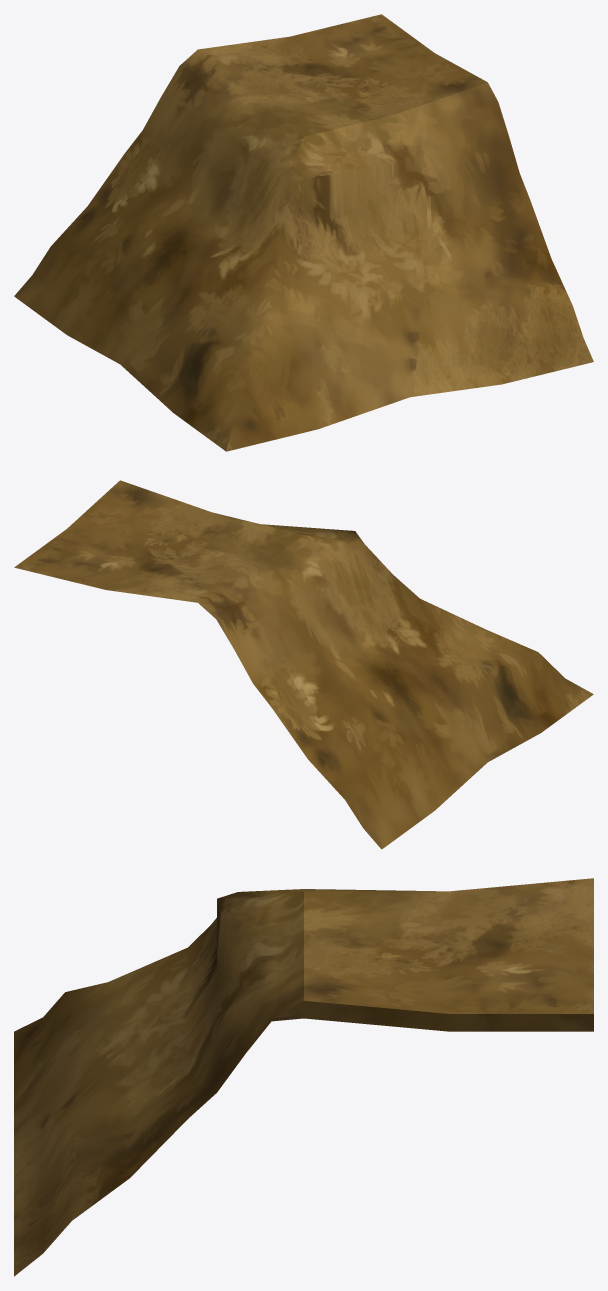
Rendered from Levelled_Slope_Corner_001.fbx.
3 views of the same model, one above another, from view 1: azimuth 30°, elevation 25°; view 2: azimuth 150°, elevation 25°; view 3: azimuth 270°, elevation 25° (orthographic). The views are drawn at different scales.
Parts seen in each view (by area): view 1: Levelled_Slope_Corner_001; view 2: Levelled_Slope_Corner_001; view 3: Levelled_Slope_Corner_001.
Boxes of the visible parts, x1=… form: Levelled_Slope_Corner_001: x1=14, y1=14, x2=593, y2=451; Levelled_Slope_Corner_001: x1=14, y1=480, x2=593, y2=849; Levelled_Slope_Corner_001: x1=14, y1=878, x2=593, y2=1276.
Bounding box in the file's own units: 10 × 5.25 × 10.
1 material, 1 textured.
